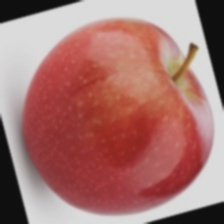apple: (45, 17, 191, 186)
